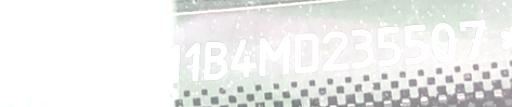letter: (256, 34, 292, 75), (458, 17, 488, 60), (320, 29, 350, 72), (229, 36, 257, 81), (81, 48, 109, 93), (402, 22, 430, 65), (292, 31, 320, 74), (54, 50, 82, 93), (202, 38, 228, 83), (430, 19, 456, 62), (377, 24, 401, 69), (136, 43, 160, 88), (108, 48, 134, 89), (350, 27, 374, 70), (31, 52, 51, 95), (182, 39, 200, 84), (163, 42, 181, 85)
